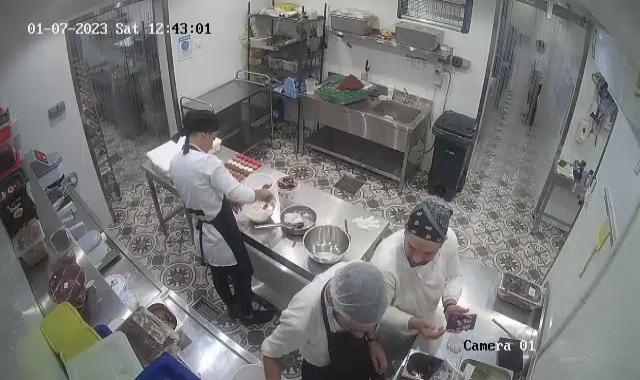hairnet: (329, 262, 393, 328)
no_hairnet: (401, 197, 456, 254), (182, 108, 221, 136)
